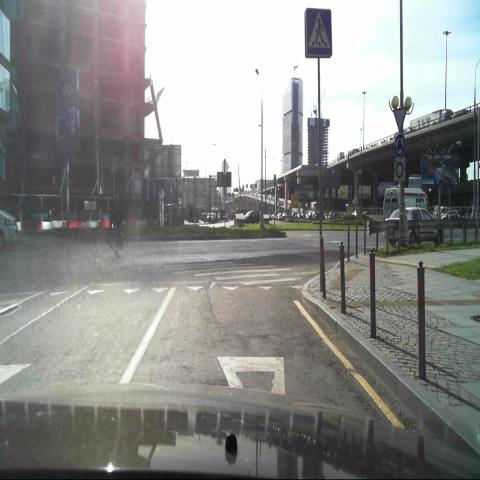4_3: (394, 133, 405, 155)
8_13_1: (393, 155, 407, 182)
